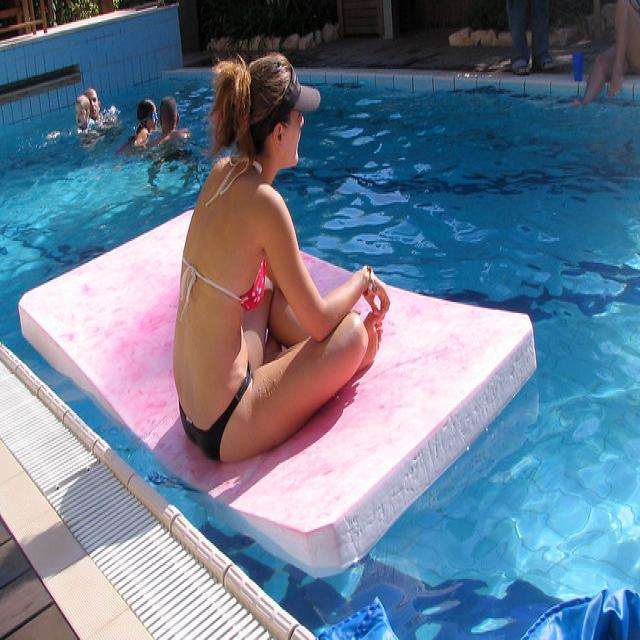Swimming: (154, 87, 189, 152), (124, 94, 158, 151), (82, 86, 112, 126), (66, 96, 95, 136)
